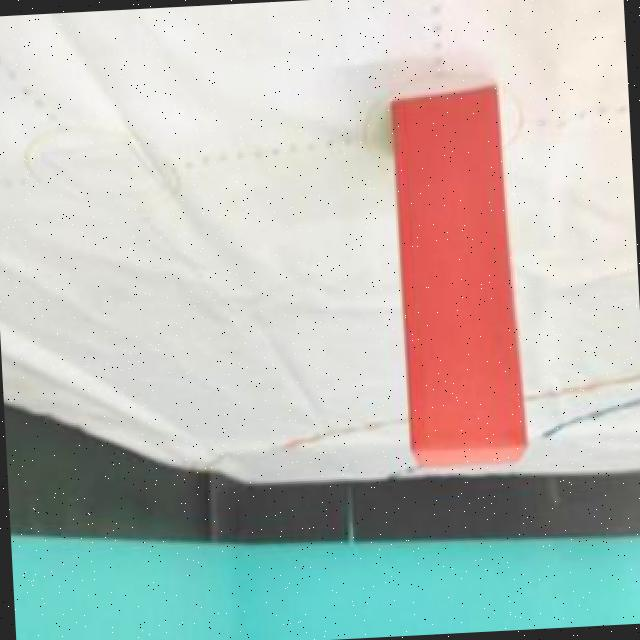redbox: (391, 88, 521, 470)
